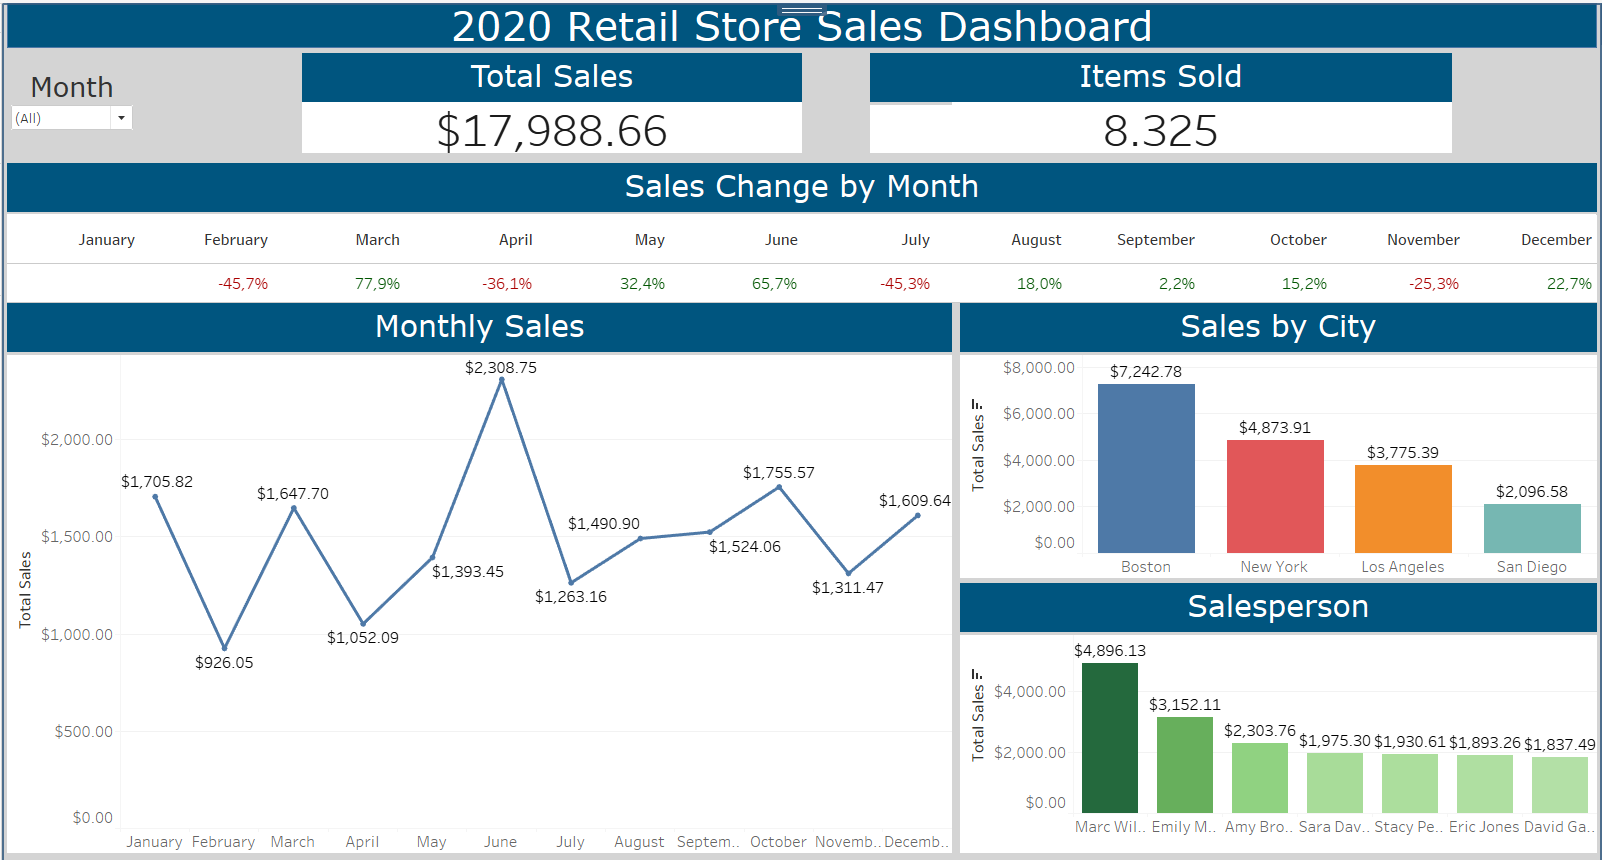

The page's visual inventory and layout, read from the dashboard file:
{"tool":"tableau","page":{"name":"Dashboard 1","canvas":[1600,900],"ordinal":0},"visuals":[{"type":"text","box":[5,0,1590,45]},{"type":"text","box":[300,50,500,100]},{"type":"worksheet","title":"Total Sales","mark":"Automatic","box":[300,50,500,100]},{"type":"worksheet","title":"Items Sold","mark":"Automatic","box":[868,50,582,100]},{"type":"text","box":[950,50,500,100]},{"type":"filter","title":"Sales Percent","param":"[federated.0u471qm1b0fpfc16bqwzv1u1qr4y].[mn:Column1:ok]","box":[6,67,128,61]},{"type":"worksheet","title":"Sales Percent","mark":"Automatic","cols":["Column1"],"box":[5,160,1590,140]},{"type":"worksheet","title":"Monthly Sales","mark":"Automatic","rows":["TotalPrice"],"cols":["Column1"],"box":[5,300,945,550]},{"type":"worksheet","title":"Sales by City","mark":"Automatic","rows":["TotalPrice"],"cols":["City"],"box":[958,300,637,275]},{"type":"worksheet","title":"Salesperson","mark":"Automatic","rows":["TotalPrice"],"cols":["Salesperson"],"box":[958,580,637,270]}]}

Visuals, with their boxes on the page's 1600x900 design canvas (x1, y1, x2, y2). These are canvas units, not pixel positions in the 1602x860 screenshot, which may show the page scaled, cropped or inside an application window:
text: x1=5 y1=0 x2=1595 y2=45
text: x1=300 y1=50 x2=800 y2=150
"Total Sales" worksheet: x1=300 y1=50 x2=800 y2=150
"Items Sold" worksheet: x1=868 y1=50 x2=1450 y2=150
text: x1=950 y1=50 x2=1450 y2=150
"Sales Percent" filter: x1=6 y1=67 x2=134 y2=128
"Sales Percent" worksheet: x1=5 y1=160 x2=1595 y2=300
"Monthly Sales" worksheet: x1=5 y1=300 x2=950 y2=850
"Sales by City" worksheet: x1=958 y1=300 x2=1595 y2=575
"Salesperson" worksheet: x1=958 y1=580 x2=1595 y2=850
